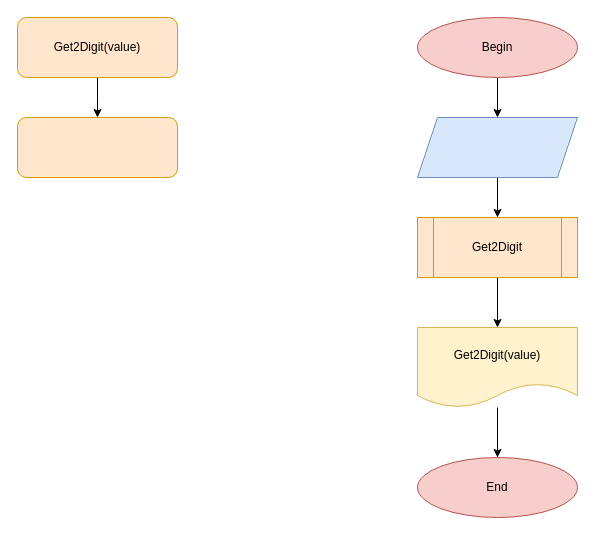
Some shapes in this 595 by 535 pixel diagram are drawn without their labels. Here are the shapes that lost their labels. From the top down, the centre of each, then its label:
At point 97,147: "|(value % 1000) / 100|".
At point 497,147: "value(-9999;-1000)".
